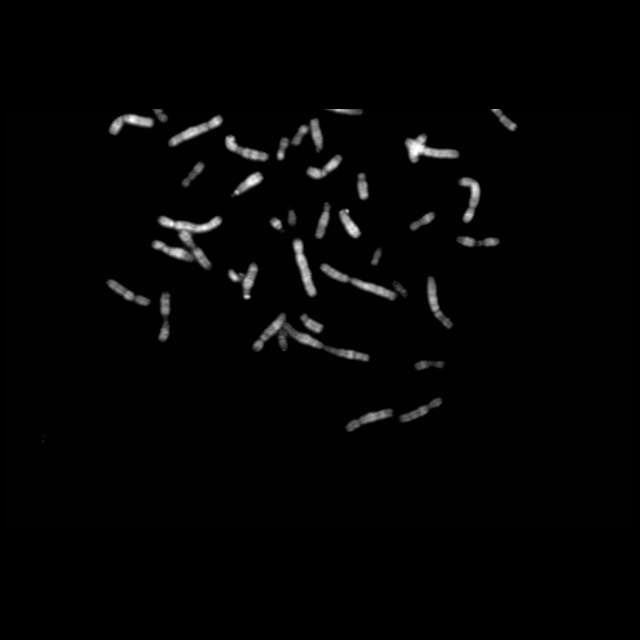chromosome: (276, 318, 368, 362), (321, 262, 395, 300), (170, 115, 222, 146), (427, 275, 453, 329), (293, 238, 317, 296), (254, 313, 286, 352), (346, 408, 394, 434), (179, 230, 211, 268), (406, 138, 460, 160), (108, 279, 150, 307), (159, 214, 221, 232), (110, 114, 154, 138), (224, 136, 268, 160), (152, 241, 194, 265), (400, 398, 442, 422), (306, 153, 344, 179), (458, 178, 479, 222), (158, 292, 172, 342), (234, 171, 262, 195), (491, 108, 517, 132), (340, 208, 360, 238), (315, 202, 331, 238), (243, 262, 259, 298), (457, 234, 498, 248), (182, 162, 204, 186), (410, 212, 434, 232), (311, 120, 325, 152), (410, 134, 426, 162), (300, 314, 324, 332), (416, 358, 444, 372), (357, 172, 369, 200), (292, 125, 308, 145), (276, 138, 290, 160), (228, 268, 244, 284), (393, 280, 409, 296), (280, 331, 290, 355), (371, 248, 383, 264), (270, 216, 282, 230), (287, 210, 297, 226)
